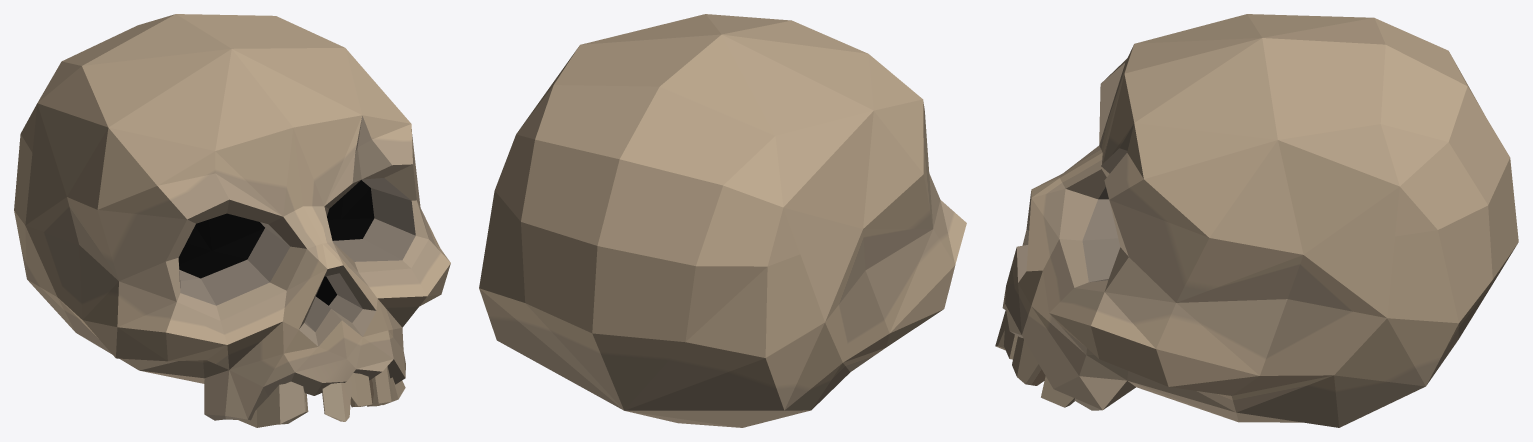
Rendered from SM_Prop_Skull_01.fbx.
The picture shows the model from 3 angles, left to right: view 1: azimuth 30°, elevation 25°; view 2: azimuth 150°, elevation 25°; view 3: azimuth 270°, elevation 25°; orthographic projection. The views are drawn at different scales.
Parts seen in each view (by area): view 1: SM_Prop_Skull_01; view 2: SM_Prop_Skull_01; view 3: SM_Prop_Skull_01.
Part boxes in pixels (x1,y1,x2,y2): SM_Prop_Skull_01: [14, 14, 450, 427]; SM_Prop_Skull_01: [479, 14, 966, 427]; SM_Prop_Skull_01: [995, 14, 1518, 427].
Size of the model in its own units: 24.14 by 22.91 by 30.69.
